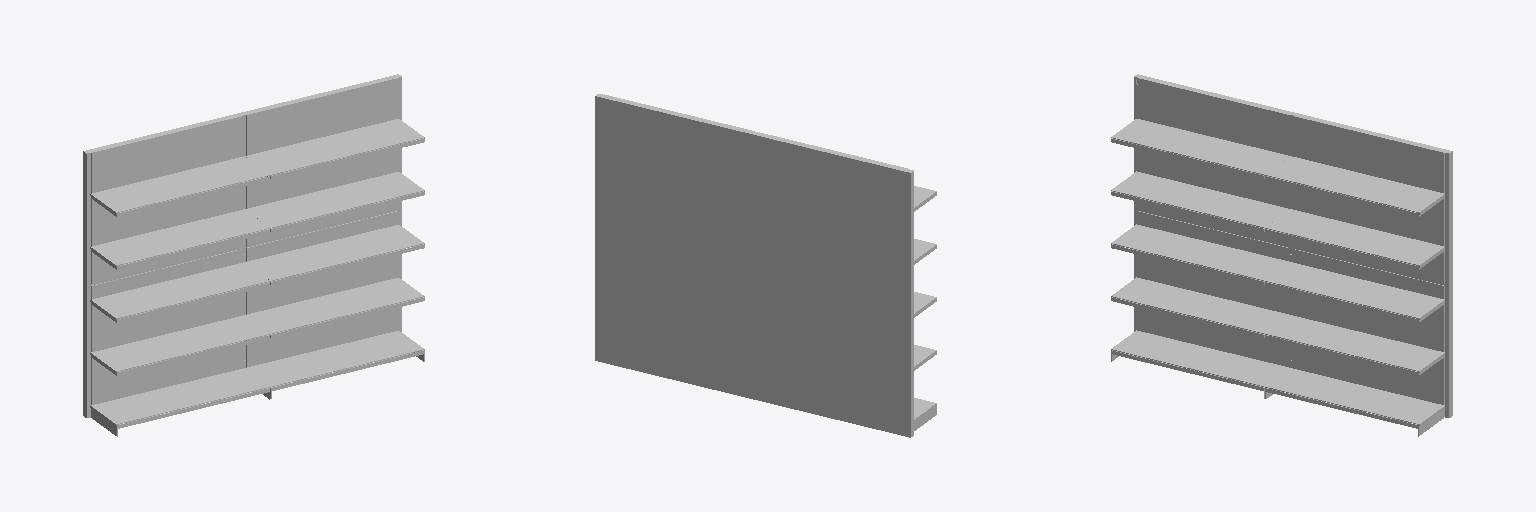
File: Estanteria.obj
3 views of the same model, side by side, from view 1: azimuth 30°, elevation 25°; view 2: azimuth 150°, elevation 25°; view 3: azimuth 330°, elevation 25° (orthographic).
Parts seen in each view (by area): view 1: Cube.029_Cube.119, Plane.030, Plane.038, Plane.042, Plane.026, Plane.034, Plane.028, Plane.032, Plane.036, Plane.044, Plane.040, Plane.041 (+9 smaller); view 2: Cube.029_Cube.119; view 3: Cube.029_Cube.119, Plane.032, Plane.028, Plane.040, Plane.044, Plane.036, Plane.026, Plane.030, Plane.034, Plane.042, Plane.038, Plane.043 (+9 smaller).
Part boxes in pixels (x1,y1,x2,y2): Cube.029_Cube.119: (83,74,401,417); Plane.030: (90,209,269,266); Plane.038: (90,315,269,372); Plane.042: (90,368,269,425); Plane.026: (90,156,269,213); Plane.034: (90,262,269,319); Plane.028: (245,119,424,176); Plane.032: (245,172,424,229); Plane.036: (245,225,424,282); Plane.044: (245,331,424,388); Plane.040: (245,278,424,335); Plane.041: (91,388,269,436); Cube.029_Cube.119: (595,94,913,437); Cube.029_Cube.119: (1134,74,1452,417); Plane.032: (1265,209,1444,267); Plane.028: (1265,156,1444,214); Plane.040: (1265,315,1444,372); Plane.044: (1265,368,1444,425); Plane.036: (1265,262,1444,319); Plane.026: (1111,119,1289,175); Plane.030: (1111,171,1289,227); Plane.034: (1111,224,1289,280); Plane.042: (1111,330,1289,386); Plane.038: (1111,277,1289,333); Plane.043: (1265,388,1444,436).
Size of the model in its own units: 2.62 by 2.1 by 0.4309.